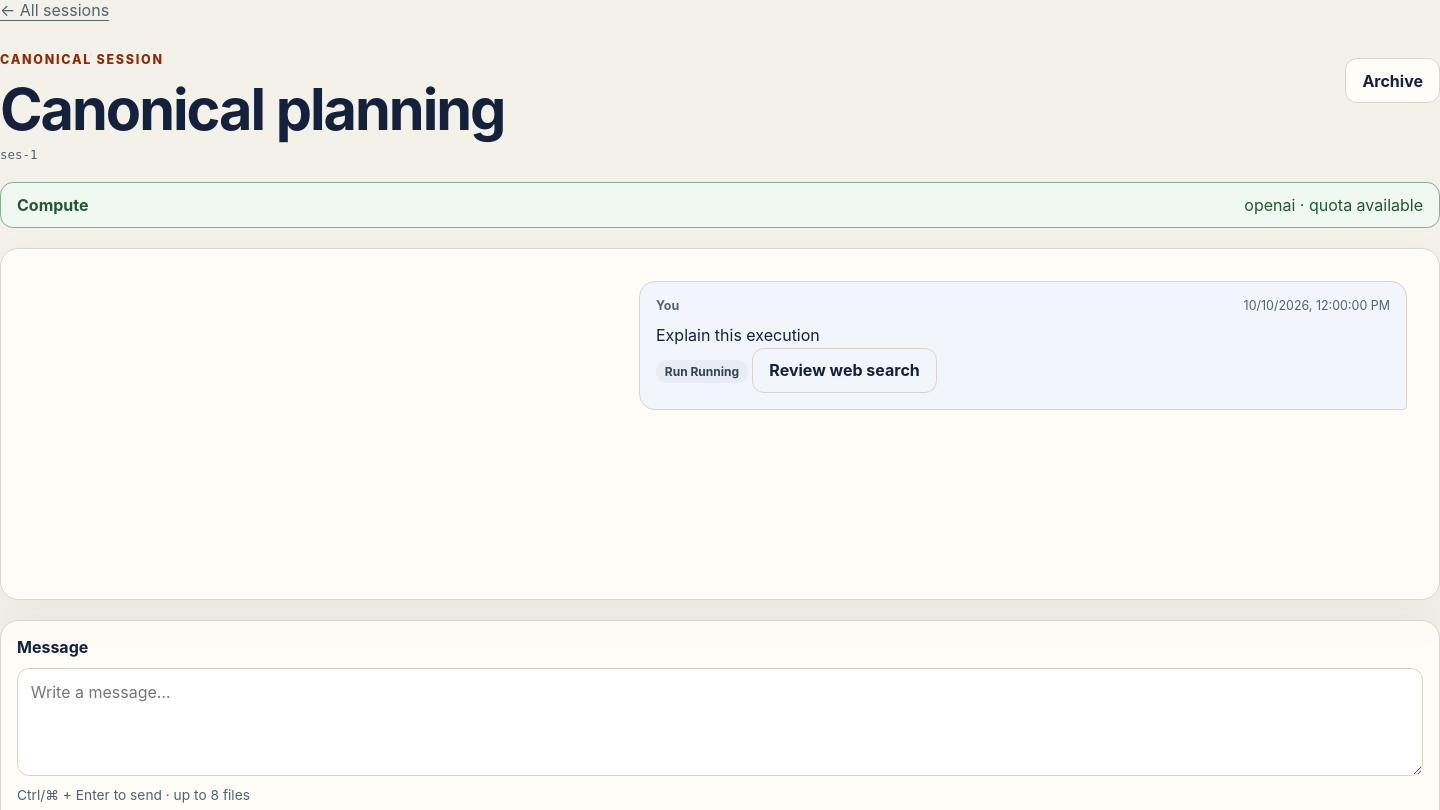
Test: SessionDetail explanation lifecycle › removes action eligibility on consent permission loss without restoring stale identity
The image size is (1440, 810).
Click the button "Review web search" at (845, 370), box [752,348,937,393]
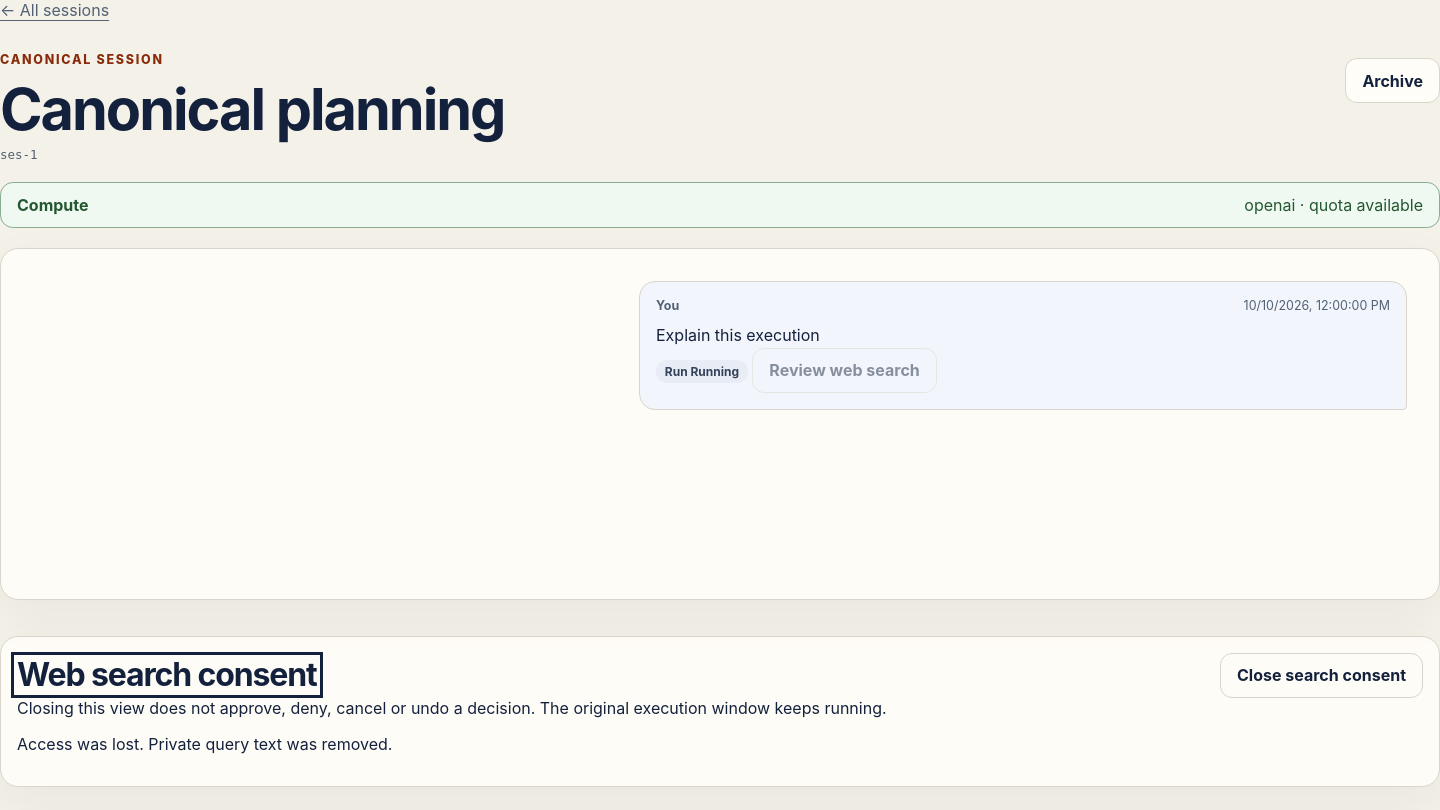
Check: the text "Access was lost. Private query text was removed." is shown, box [17,734,392,754]
Check: the button "Review web search" is disabled, box [752,348,937,393]
